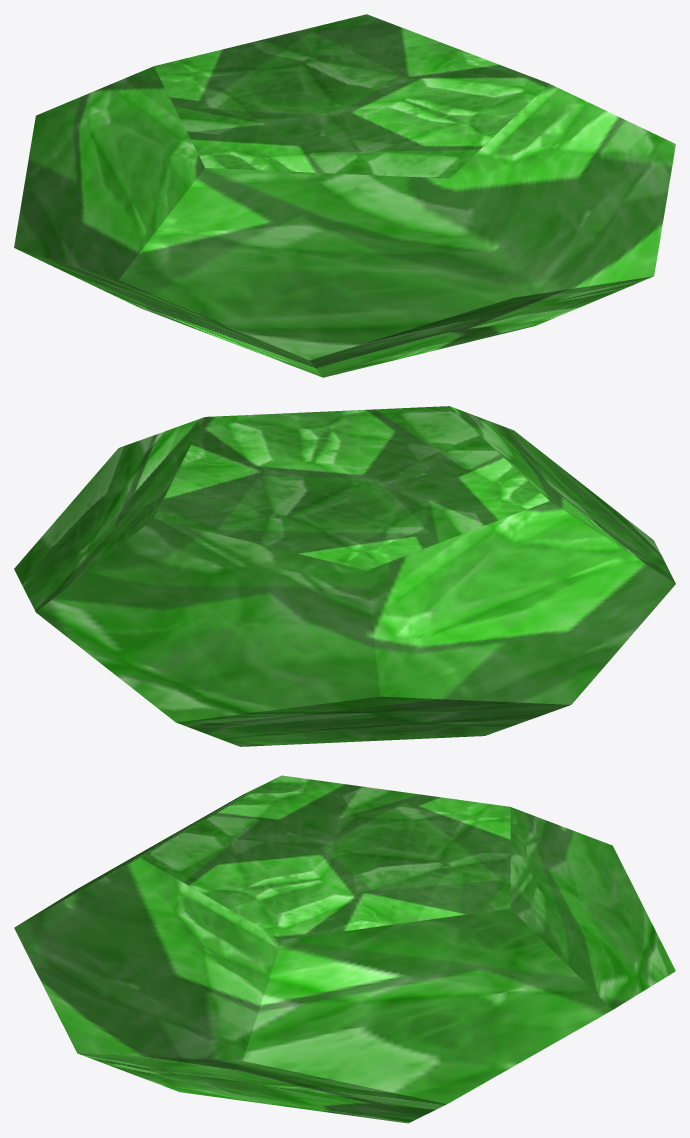
The model's file is p2_diamond2.fbx.
3 views of the same model, one above another, from view 1: azimuth 30°, elevation 25°; view 2: azimuth 150°, elevation 25°; view 3: azimuth 270°, elevation 25° (orthographic). The views are drawn at different scales.
Parts seen in each view (by area): view 1: dodecahedron; view 2: dodecahedron; view 3: dodecahedron.
Part boxes in pixels (x1,y1,x2,y2): dodecahedron: (14,14,675,377); dodecahedron: (14,406,675,746); dodecahedron: (14,775,675,1123).
Bounding box in the file's own units: 198 × 63.79 × 208.
